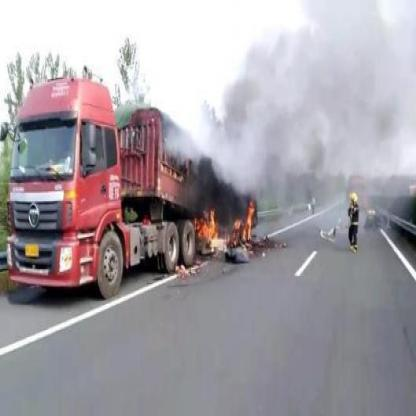fire: (192, 201, 219, 251), (230, 198, 252, 245)
other: (6, 73, 181, 281)
smoke: (215, 85, 280, 189), (298, 51, 329, 176), (368, 84, 402, 160)
